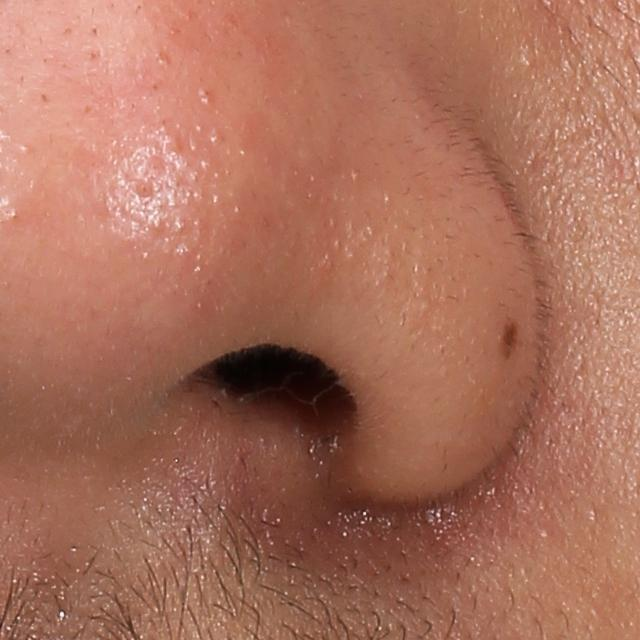comedo: (520, 56, 533, 71)
nevus: (494, 313, 520, 360)
